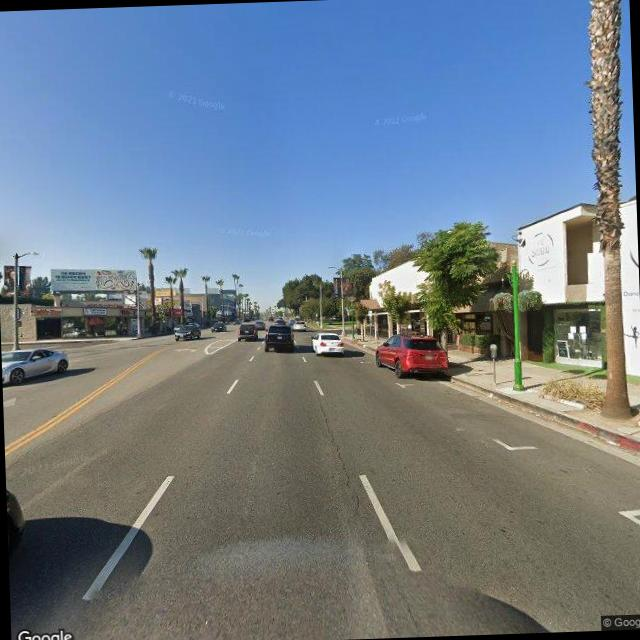pothole: (313, 390, 361, 521)
